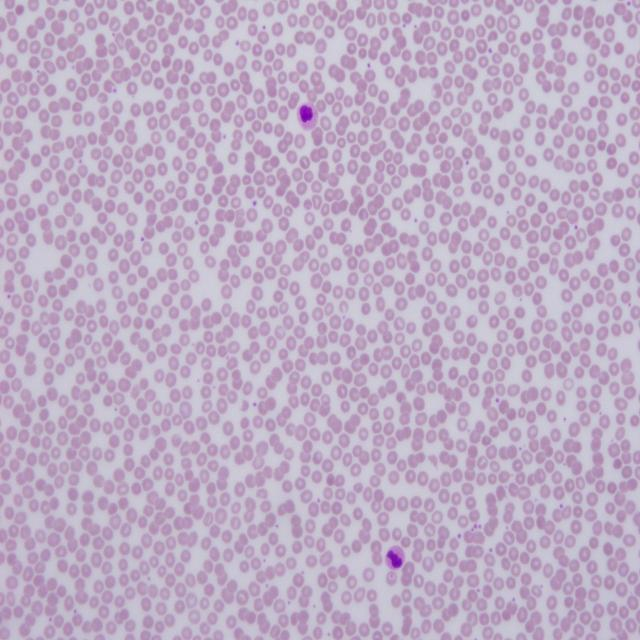cell: (298, 102, 318, 131), (385, 545, 405, 569)
